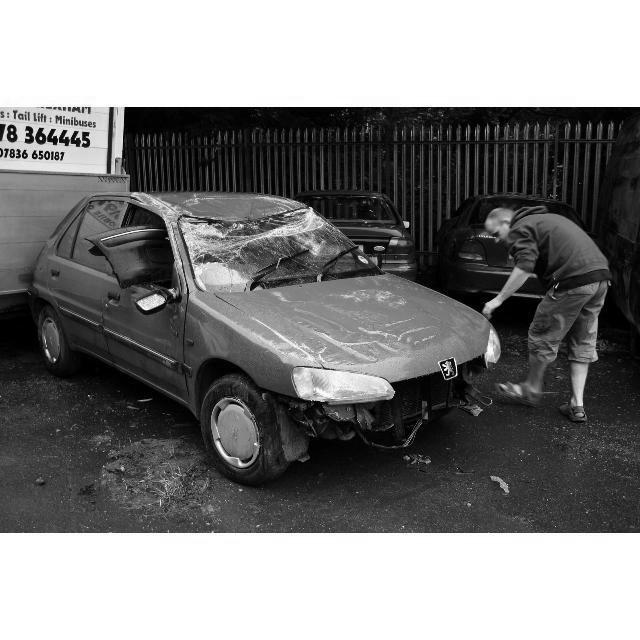Front-windscreen-damage: (194, 208, 348, 295)
bonnet-dent: (206, 277, 466, 369)
front-bumper-dent: (307, 365, 490, 461)
roof-dent: (87, 186, 314, 220)
